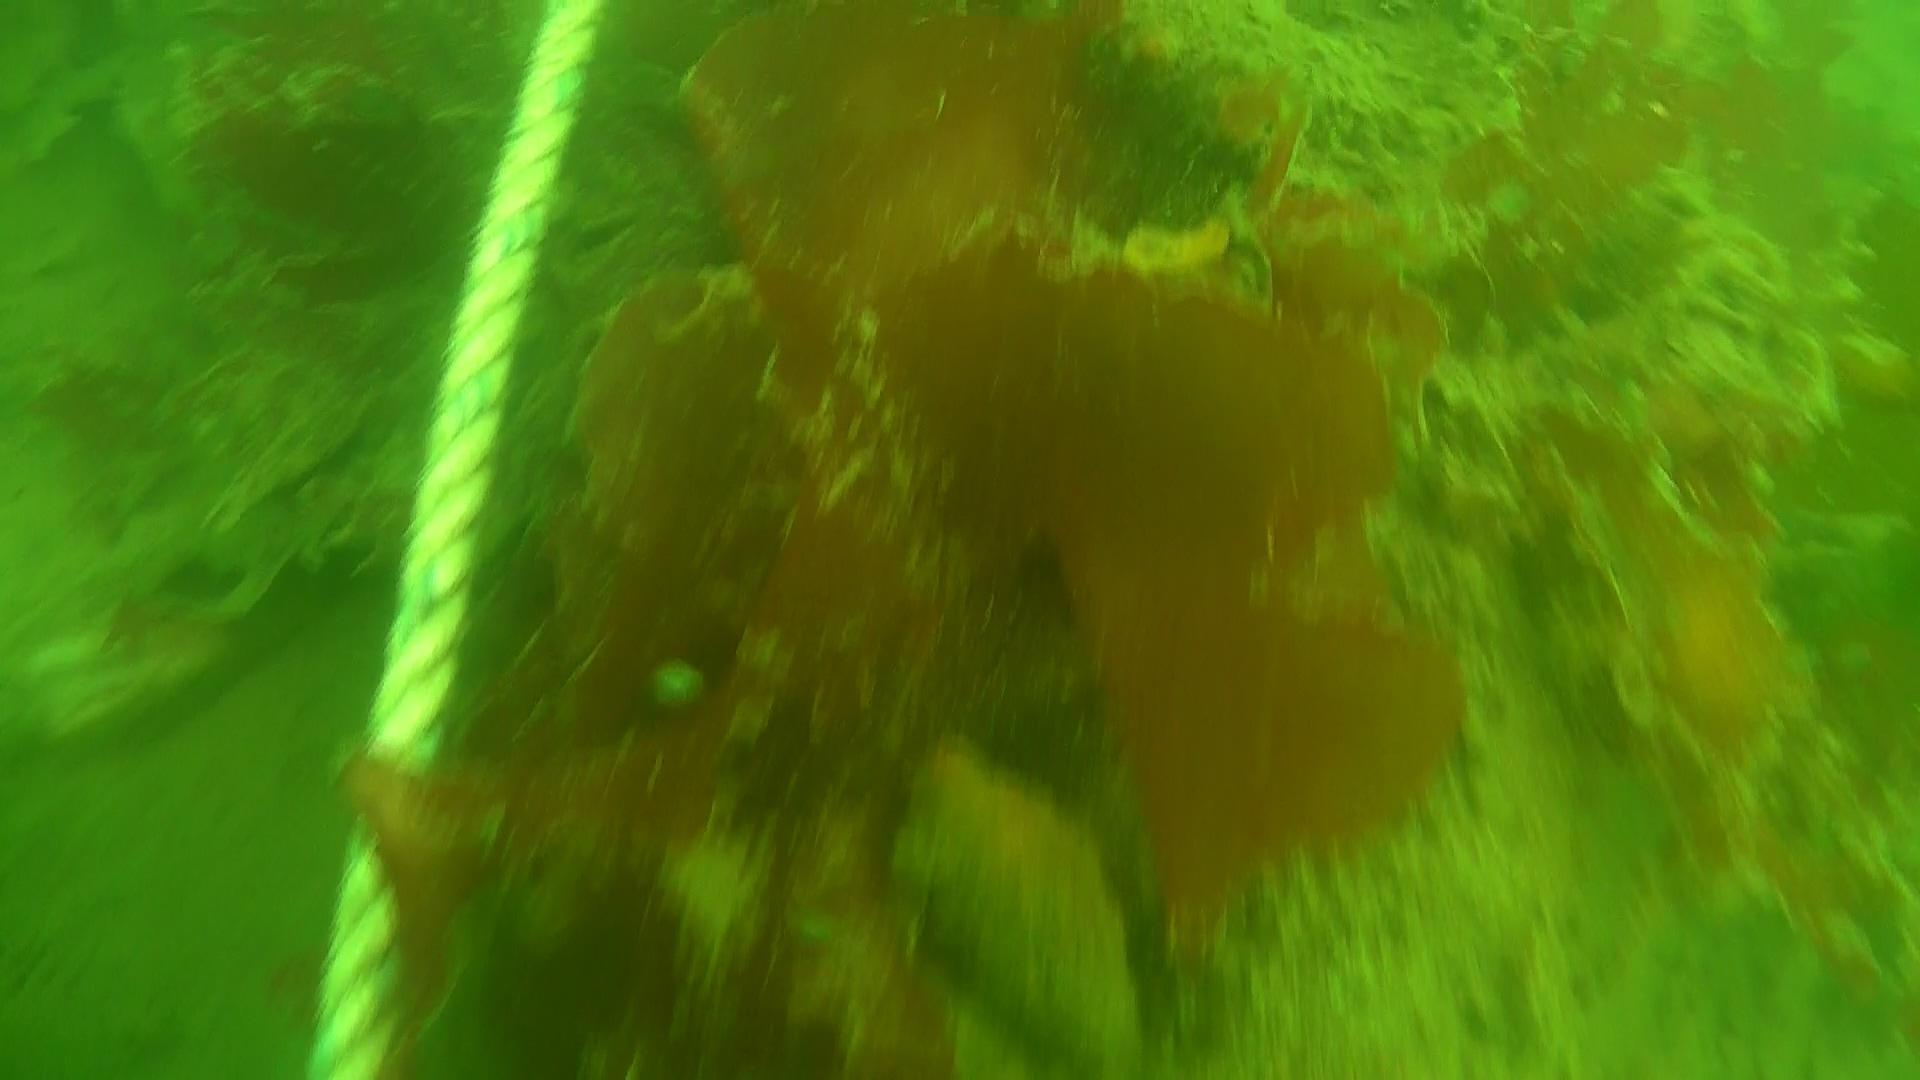rope: (302, 0, 604, 1080)
